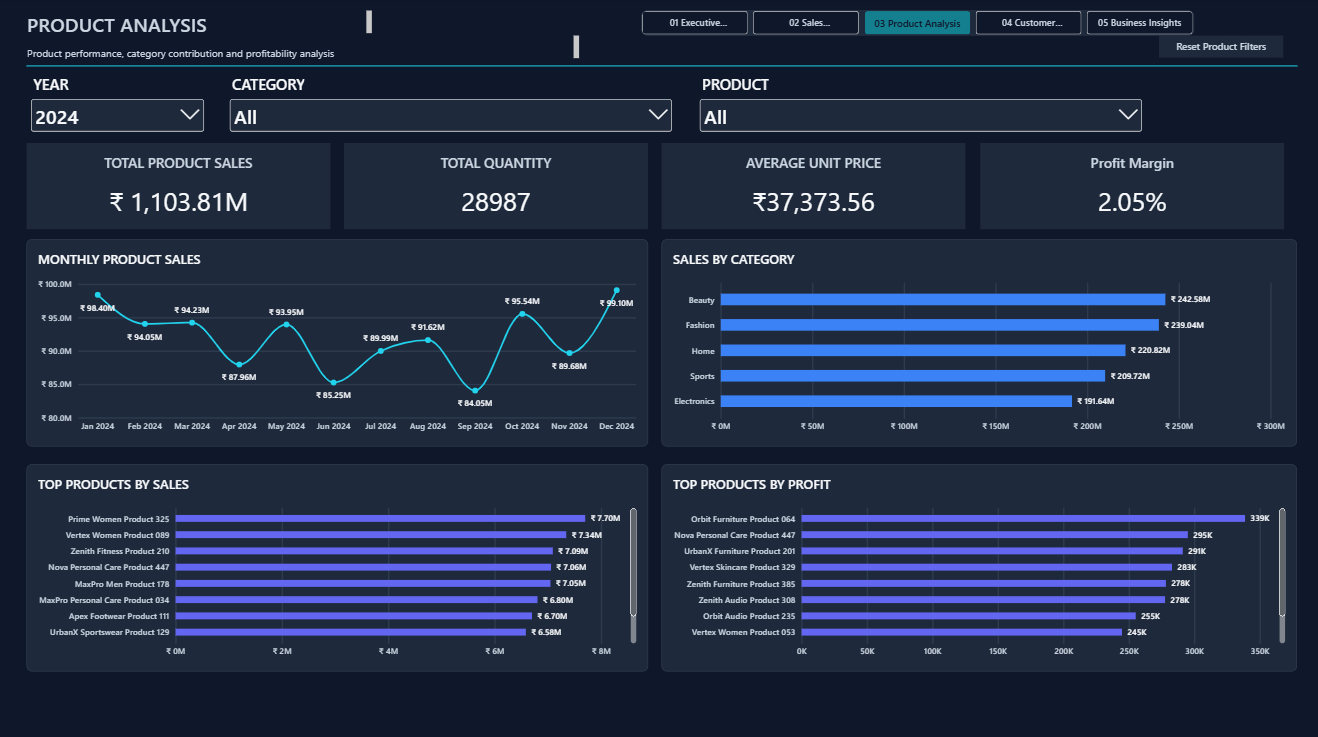

This screenshot's page, from the dashboard's own definition file:
{"tool":"powerbi","page":{"name":"03 Product Analysis","canvas":[1920,1080],"ordinal":3},"visuals":[{"type":"textbox","box":[40,18,500,35],"z":0},{"type":"textbox","box":[40,55,800,35],"z":1000},{"type":"shape","box":[40,92,1840,12],"z":2000},{"type":"slicer","fields":{"Values":["DimDate.Year"]},"box":[40.7,110.5,260,85],"z":3000},{"type":"slicer","fields":{"Values":["DimProduct.Category"]},"box":[330,110,650,85],"z":4000},{"type":"slicer","fields":{"Values":["DimProduct.Product_Name"]},"box":[1010,110,650,85],"z":5000},{"type":"actionButton","box":[1680,55,180,32],"z":6000},{"type":"card","title":"TOTAL PRODUCT SALES","fields":{"Values":["_Measures.Total Sales"]},"box":[40,210,440,125],"z":7000},{"type":"card","title":"TOTAL QUANTITY","fields":{"Values":["_Measures.Total Quantity"]},"box":[500,210,440,125],"z":8000},{"type":"card","title":"AVERAGE UNIT PRICE","fields":{"Values":["_Measures.Average Unit Price"]},"box":[960,210,440,125],"z":9000},{"type":"card","title":"Profit Margin","fields":{"Values":["_Measures.Profit Margin %"]},"box":[1420,210,440,125],"z":10000},{"type":"lineChart","title":"MONTHLY PRODUCT SALES","fields":{"Category":["DimDate.Month Year"],"Y":["_Measures.Total Sales"]},"box":[40,350,900,300],"z":11000},{"type":"clusteredBarChart","title":"SALES BY CATEGORY","fields":{"Category":["DimProduct.Category"],"Y":["_Measures.Total Sales"]},"box":[960,350,920,300],"z":12000},{"type":"clusteredBarChart","title":"TOP PRODUCTS BY SALES","fields":{"Category":["DimProduct.Product_Name"],"Y":["_Measures.Total Sales"]},"box":[40,675,900,300],"z":13000},{"type":"clusteredBarChart","title":"TOP PRODUCTS BY PROFIT","fields":{"Category":["DimProduct.Product_Name"],"Y":["_Measures.Total Profit"]},"box":[960,675,920,300],"z":14000},{"type":"pageNavigator","box":[930,18.1,800,36],"z":15000}]}

Visuals, with their boxes in screenshot pixels (x1, y1, x2, y2), scaled from the page's 1920x1080 canvas onto the 1318x737 screenshot:
textbox: detection(27, 12, 371, 36)
textbox: detection(27, 38, 577, 61)
shape: detection(27, 63, 1291, 71)
slicer - DimDate.Year: detection(28, 75, 206, 133)
slicer - DimProduct.Category: detection(227, 75, 673, 133)
slicer - DimProduct.Product_Name: detection(693, 75, 1140, 133)
actionButton: detection(1153, 38, 1277, 59)
"TOTAL PRODUCT SALES" card: detection(27, 143, 330, 229)
"TOTAL QUANTITY" card: detection(343, 143, 645, 229)
"AVERAGE UNIT PRICE" card: detection(659, 143, 961, 229)
"Profit Margin" card: detection(975, 143, 1277, 229)
"MONTHLY PRODUCT SALES" lineChart: detection(27, 239, 645, 444)
"SALES BY CATEGORY" clusteredBarChart: detection(659, 239, 1291, 444)
"TOP PRODUCTS BY SALES" clusteredBarChart: detection(27, 461, 645, 665)
"TOP PRODUCTS BY PROFIT" clusteredBarChart: detection(659, 461, 1291, 665)
pageNavigator: detection(638, 12, 1188, 37)
